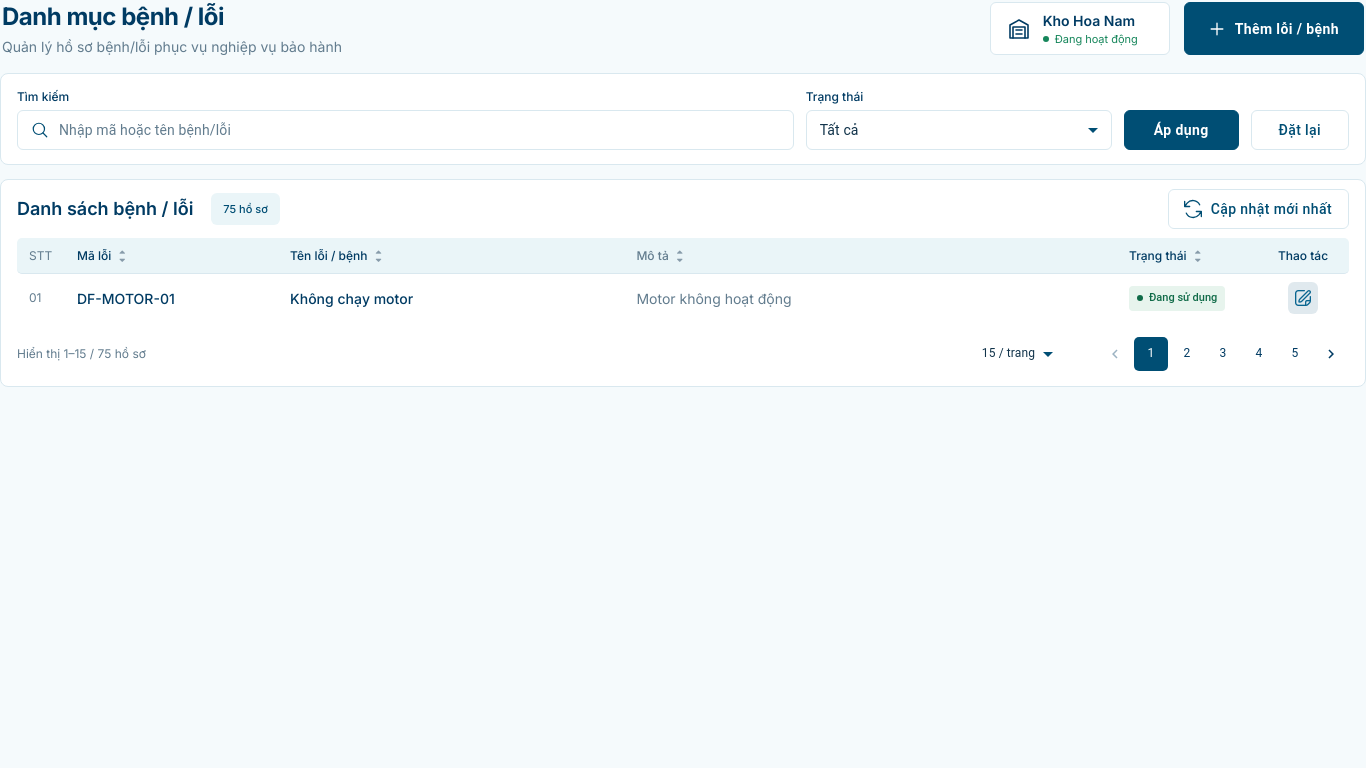
Test: DefectMasterScreen interactions › closes an unchanged form without a discard prompt
The image size is (1366, 768).
Expected: the text "DF-MOTOR-01" is shown, 77,290 -> 175,306
Click the button named "Sửa". click: coordinates (1303, 298)
box: 1288,282 -> 1318,314
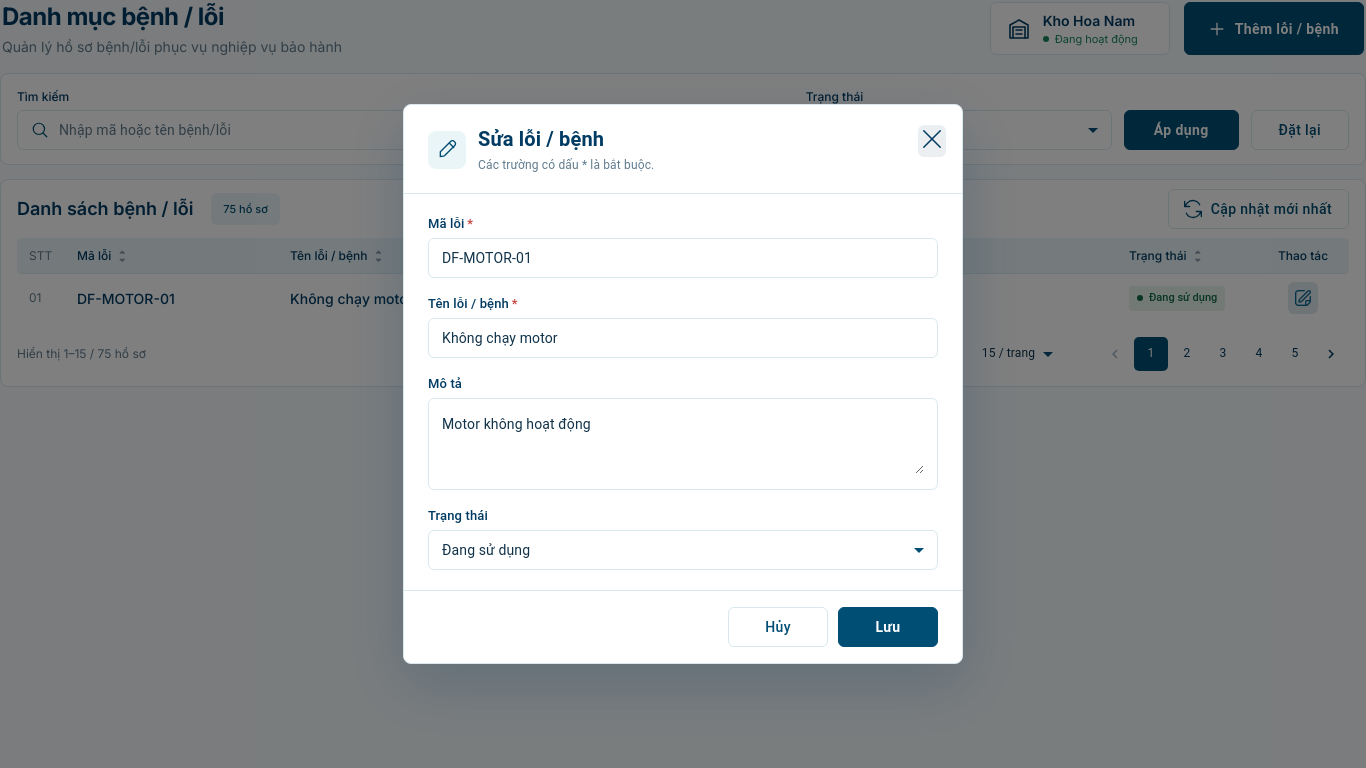
Click the button "Hủy". click: coordinates (778, 627)
box: 728,607 -> 828,647
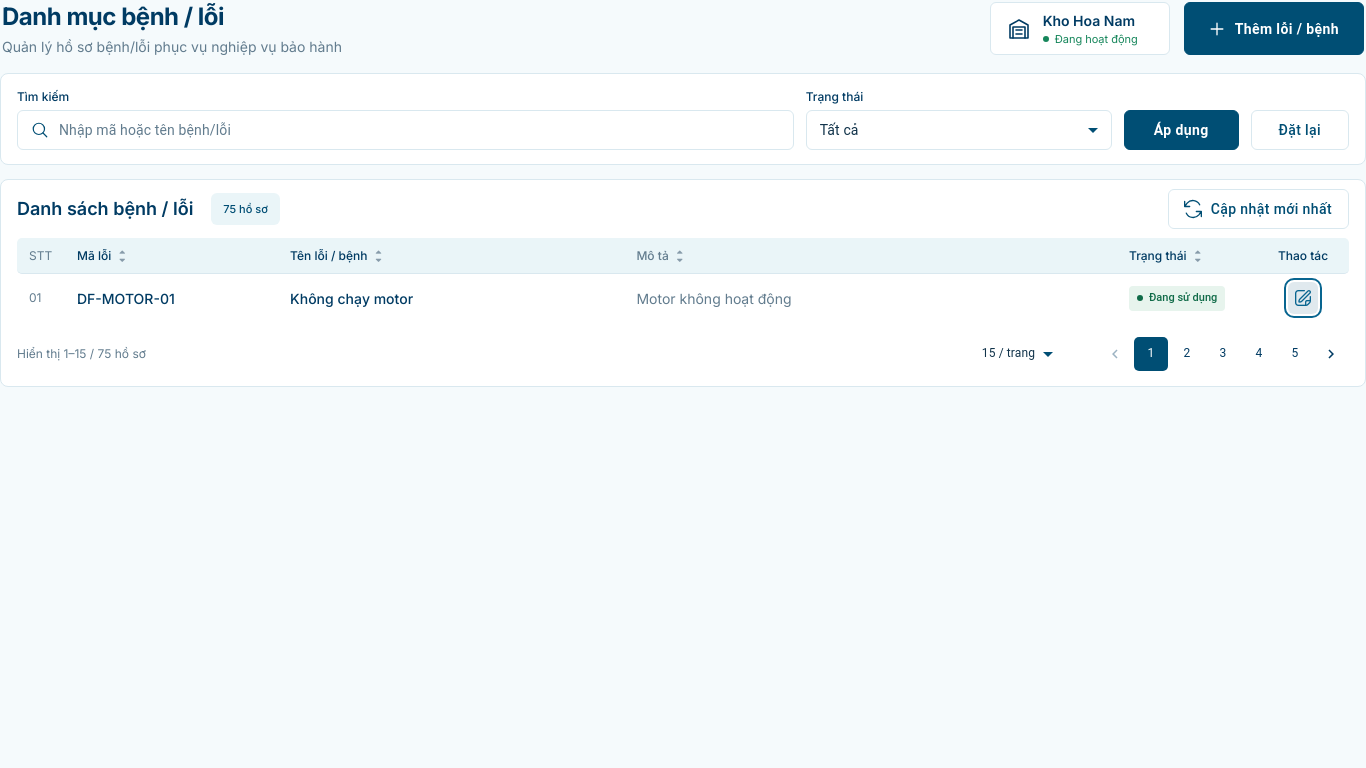
Result: the dialog is gone
